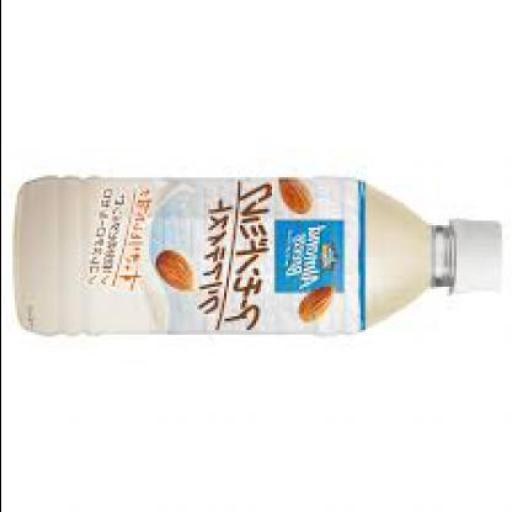plastic: (13, 178, 506, 341), (446, 219, 505, 298)
